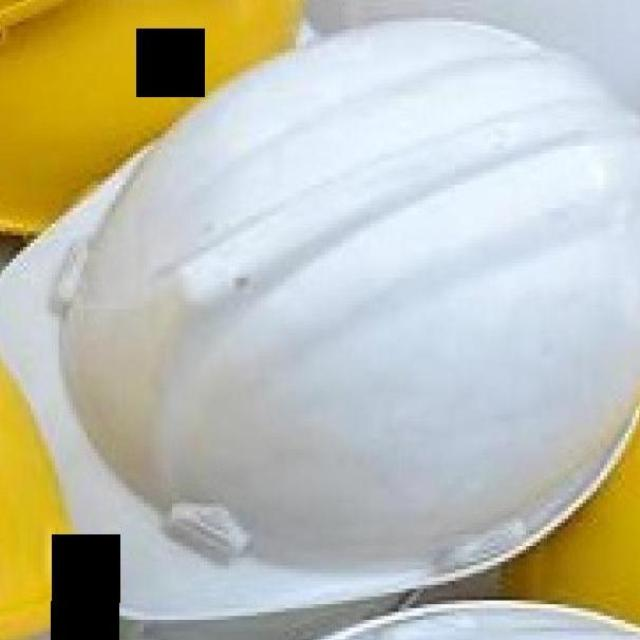white helmet: (2, 30, 640, 601)
